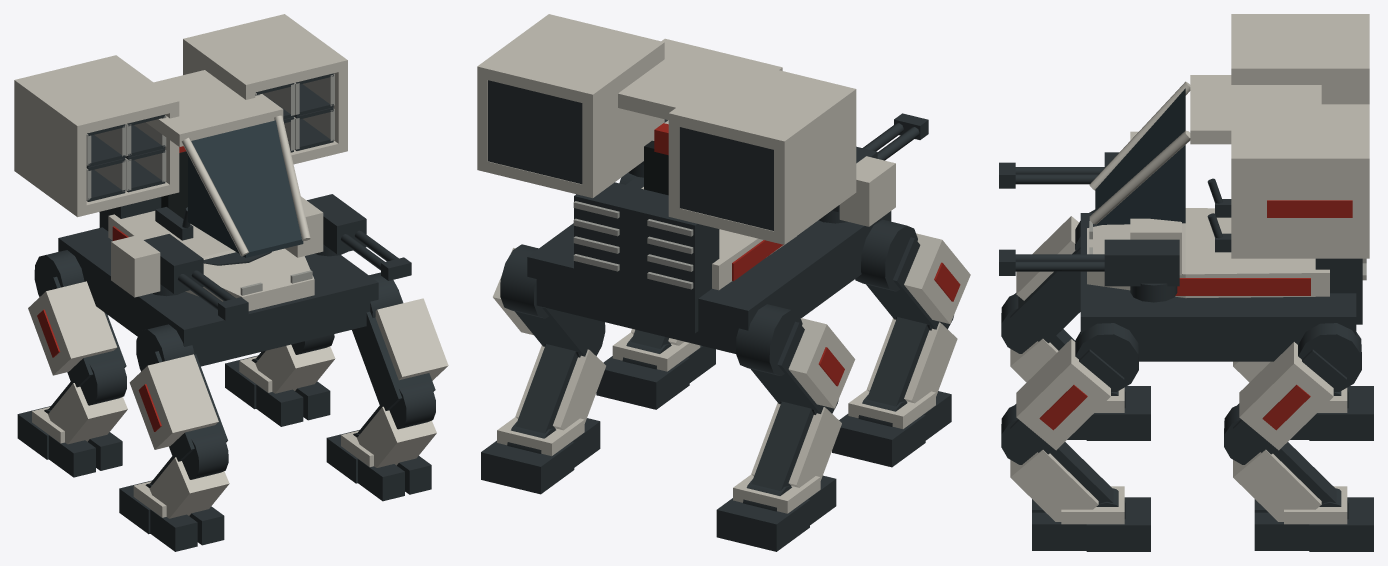
3 views of the same model, side by side, from view 1: azimuth 30°, elevation 25°; view 2: azimuth 150°, elevation 25°; view 3: azimuth 270°, elevation 25° (orthographic). The views are drawn at different scales.
Visible parts, largest first — view 1: mech-torso-painted, mech-silo-left-painted, mech-silo-right-painted, mech-hip-1-painted, mech-hip-0-painted, mech-hip-3-painted, mech-mg-pitch-left-painted, mech-knee-1-painted, mech-mg-pitch-right-painted, mech-knee-0-painted, mech-knee-3-painted, mech-ankle-1-painted (+5 smaller); view 2: mech-torso-painted, mech-silo-left-painted, mech-silo-right-painted, mech-hip-0-painted, mech-hip-1-painted, mech-ankle-0-painted, mech-ankle-2-painted, mech-ankle-1-painted, mech-knee-2-painted, mech-ankle-3-painted, mech-knee-0-painted, mech-knee-1-painted (+3 smaller); view 3: mech-torso-painted, mech-silo-right-painted, mech-silo-left-painted, mech-hip-3-painted, mech-hip-2-painted, mech-mg-pitch-right-painted, mech-knee-3-painted, mech-knee-2-painted, mech-ankle-2-painted, mech-ankle-3-painted, mech-hip-1-painted, mech-ankle-0-painted (+6 smaller).
Boxes of the visible parts, left/top/right/bottom form: mech-torso-painted: left=58, top=70, right=378, bottom=366; mech-silo-left-painted: left=14, top=55, right=179, bottom=217; mech-silo-right-painted: left=183, top=14, right=347, bottom=164; mech-hip-1-painted: left=129, top=324, right=227, bottom=461; mech-hip-0-painted: left=28, top=250, right=126, bottom=387; mech-hip-3-painted: left=352, top=272, right=448, bottom=410; mech-mg-pitch-left-painted: left=111, top=234, right=248, bottom=320; mech-knee-1-painted: left=149, top=431, right=229, bottom=518; mech-mg-pitch-right-painted: left=285, top=194, right=411, bottom=280; mech-knee-0-painted: left=48, top=357, right=127, bottom=444; mech-knee-3-painted: left=357, top=381, right=436, bottom=467; mech-ankle-1-painted: left=119, top=480, right=224, bottom=551; mech-torso-painted: left=527, top=38, right=891, bottom=353; mech-silo-left-painted: left=668, top=60, right=856, bottom=244; mech-silo-right-painted: left=477, top=14, right=664, bottom=198; mech-hip-0-painted: left=736, top=304, right=855, bottom=413; mech-hip-1-painted: left=855, top=219, right=970, bottom=329; mech-ankle-0-painted: left=716, top=474, right=836, bottom=551; mech-ankle-2-painted: left=481, top=417, right=600, bottom=494; mech-ankle-1-painted: left=832, top=390, right=951, bottom=467; mech-knee-2-painted: left=515, top=321, right=605, bottom=433; mech-ankle-3-painted: left=596, top=332, right=715, bottom=409; mech-knee-0-painted: left=751, top=399, right=841, bottom=490; mech-knee-1-painted: left=866, top=316, right=957, bottom=406; mech-torso-painted: left=1080, top=75, right=1366, bottom=361; mech-silo-right-painted: left=1231, top=104, right=1369, bottom=258; mech-silo-left-painted: left=1231, top=14, right=1369, bottom=104; mech-hip-3-painted: left=1010, top=323, right=1138, bottom=454; mech-hip-2-painted: left=1233, top=323, right=1361, bottom=454; mech-mg-pitch-right-painted: left=999, top=218, right=1181, bottom=286; mech-knee-3-painted: left=1001, top=404, right=1113, bottom=521; mech-knee-2-painted: left=1224, top=404, right=1336, bottom=521; mech-ankle-2-painted: left=1254, top=486, right=1373, bottom=551; mech-ankle-3-painted: left=1032, top=486, right=1150, bottom=551; mech-hip-1-painted: left=1010, top=209, right=1095, bottom=343; mech-ankle-0-painted: left=1290, top=386, right=1373, bottom=440.
Bounding box in the file's own units: 13.63 × 16.84 × 14.45.
